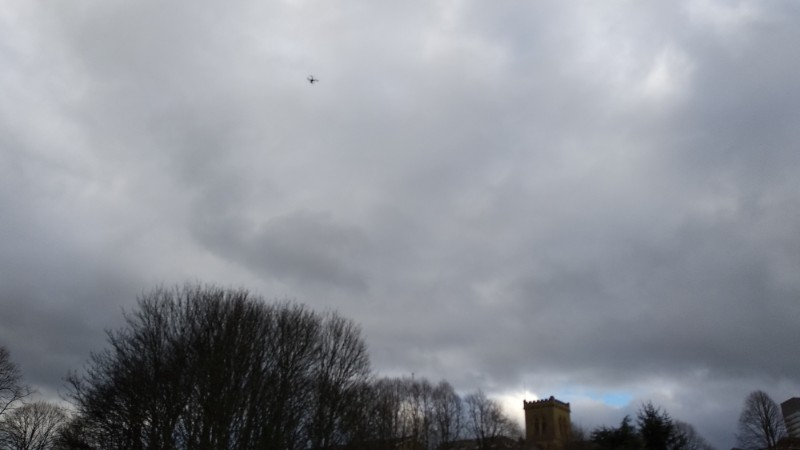drone: (307, 76, 319, 83)
